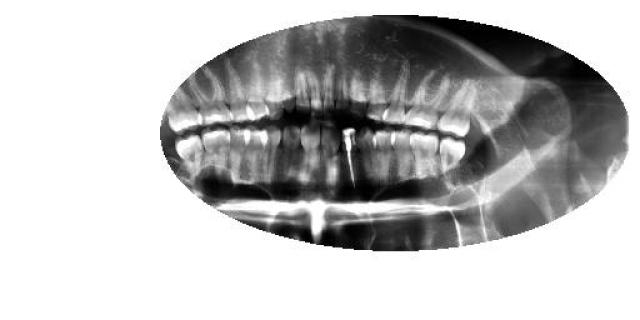Implant: (342, 128, 356, 190)
